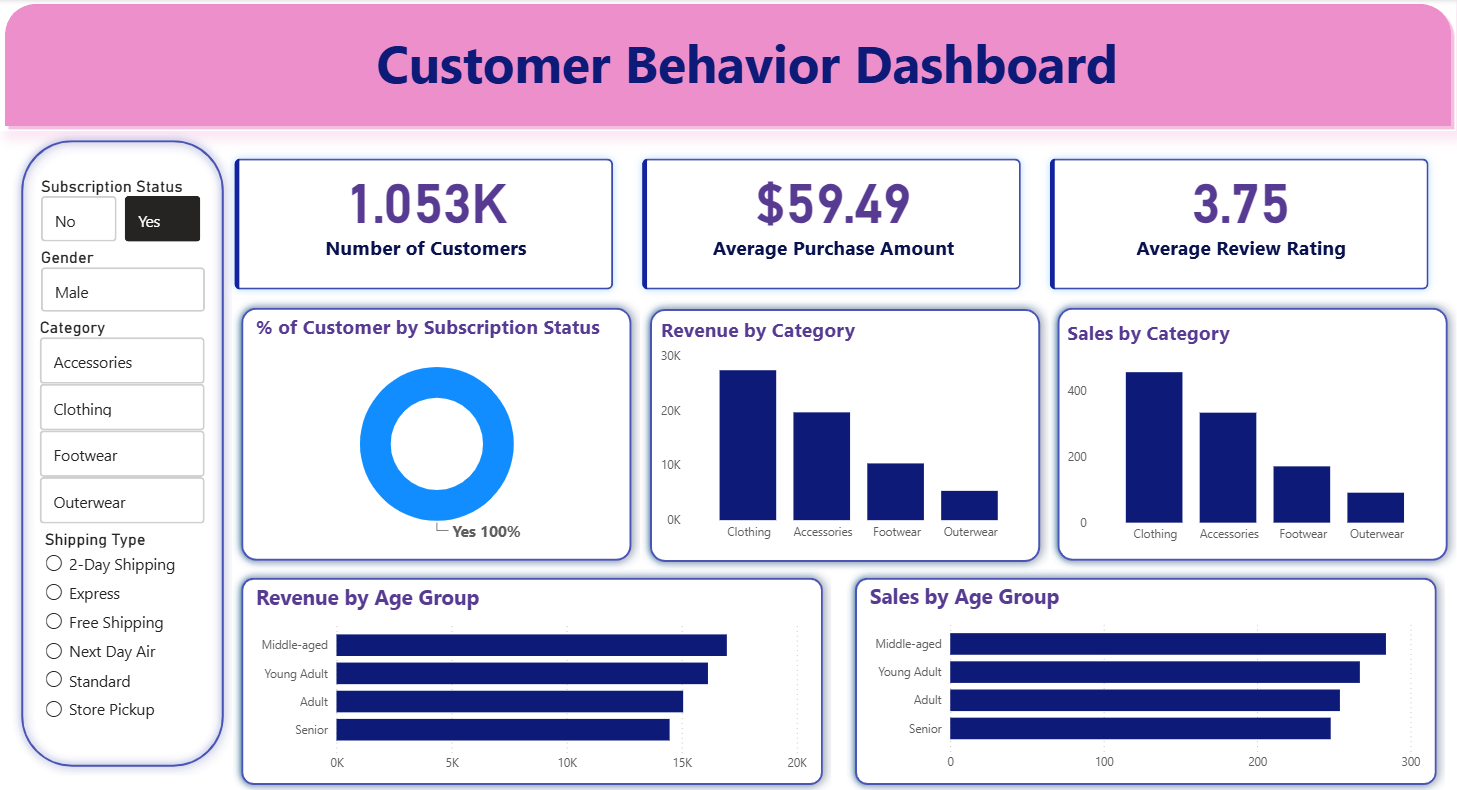

What the dashboard file says about the page in this screenshot:
{"tool":"powerbi","page":{"name":"Page 1","canvas":[1500,820],"ordinal":0},"visuals":[{"type":"cardVisual","fields":{"Data":["customer_behavior customer.Number of Customers","customer_behavior customer.Average Purchase Amount","customer_behavior customer.Average Review Rating"]},"box":[213.3,136.7,1286.7,191.7],"z":0},{"type":"shape","box":[240,587.1,617.1,231.4],"z":1000},{"type":"shape","box":[0,0,1500,136],"z":2000},{"type":"clusteredBarChart","title":"Revenue by Age Group","fields":{"Y":["Sum(customer_behavior customer.purchase_amount)"],"Category":["customer_behavior customer.age_group"]},"box":[258.6,601.4,577.1,204.3],"z":3000},{"type":"textbox","box":[38,24,1462,100],"z":4000},{"type":"shape","box":[1080,308.6,420,278.6],"z":5000},{"type":"shape","box":[660,310,420,278.6],"z":6000},{"type":"clusteredColumnChart","title":"Revenue by Category","fields":{"Category":["customer_behavior customer.category"],"Y":["Sum(customer_behavior customer.purchase_amount)"]},"box":[675.7,327.1,390,240],"z":7000},{"type":"shape","box":[240,308.6,420,278.6],"z":8000},{"type":"clusteredColumnChart","title":"Sales by Category","fields":{"Category":["customer_behavior customer.category"],"Y":["CountNonNull(customer_behavior customer.customer_id)"]},"box":[1094.3,330,390,240],"z":9000},{"type":"shape","box":[13.3,136.7,226.7,663.3],"z":10000},{"type":"advancedSlicerVisual","title":"Gender","fields":{"Values":["customer_behavior customer.gender"]},"box":[37.9,255.6,179.8,71.6],"z":11000},{"type":"advancedSlicerVisual","title":"Subscription Status","fields":{"Values":["customer_behavior customer.subscription_status"]},"box":[37.9,182.6,175.6,73],"z":12000},{"type":"advancedSlicerVisual","title":"Category","fields":{"Values":["customer_behavior customer.category"]},"box":[36.1,328.4,180.3,218.9],"z":13000},{"type":"listSlicer","title":"Shipping Type","fields":{"Values":["customer_behavior customer.shipping_type"]},"box":[41.2,546,172.6,213.8],"z":14000},{"type":"donutChart","title":"% of Customer by Subscription Status","fields":{"Category":["customer_behavior customer.subscription_status"],"Y":["CountNonNull(customer_behavior customer.customer_id)"]},"box":[258.6,322.9,382.9,244.3],"z":15000},{"type":"shape","box":[871.4,587.1,617.1,231.4],"z":16000},{"type":"clusteredBarChart","title":"Sales by Age Group","fields":{"Y":["CountNonNull(customer_behavior customer.customer_id)"],"Category":["customer_behavior customer.age_group"]},"box":[891.4,600,577.1,204.3],"z":17000}]}

Visuals, with their boxes in screenshot pixels (x1, y1, x2, y2), scaled from the page's 1500x820 canvas onto the 1457x790 screenshot:
cardVisual - customer_behavior customer.Number of Customers x customer_behavior customer.Average Purchase Amount: (207, 132, 1456, 316)
shape: (233, 566, 833, 789)
shape: (0, 0, 1456, 131)
"Revenue by Age Group" clusteredBarChart: (251, 579, 812, 776)
textbox: (37, 23, 1456, 119)
shape: (1049, 297, 1456, 566)
shape: (641, 299, 1049, 567)
"Revenue by Category" clusteredColumnChart: (656, 315, 1035, 546)
shape: (233, 297, 641, 566)
"Sales by Category" clusteredColumnChart: (1063, 318, 1442, 549)
shape: (13, 132, 233, 771)
"Gender" advancedSlicerVisual: (37, 246, 211, 315)
"Subscription Status" advancedSlicerVisual: (37, 176, 207, 246)
"Category" advancedSlicerVisual: (35, 316, 210, 527)
"Shipping Type" listSlicer: (40, 526, 208, 732)
"% of Customer by Subscription Status" donutChart: (251, 311, 623, 546)
shape: (846, 566, 1446, 789)
"Sales by Age Group" clusteredBarChart: (866, 578, 1426, 775)
